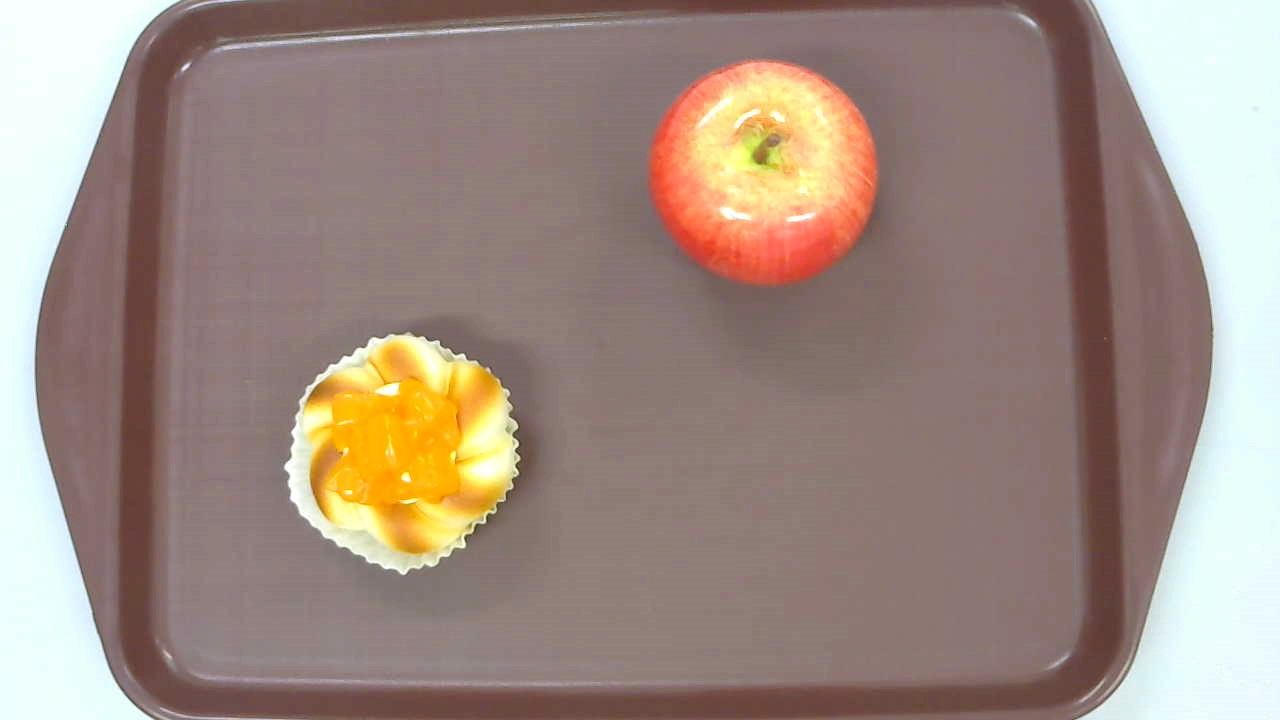mango tart: (282, 332, 522, 577)
red apple: (646, 57, 879, 285)
